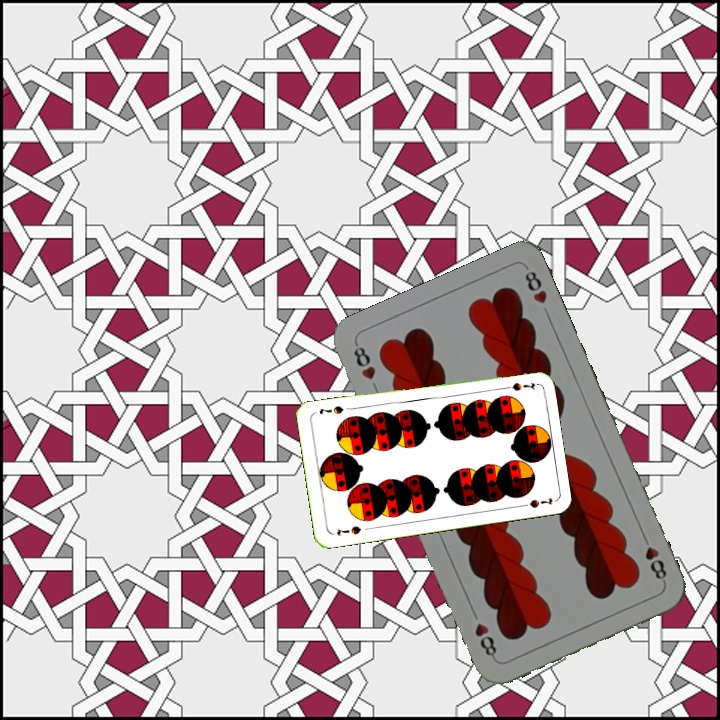H8: (637, 530, 670, 586), (349, 340, 378, 383)
S7: (497, 378, 537, 394), (332, 522, 364, 538)
